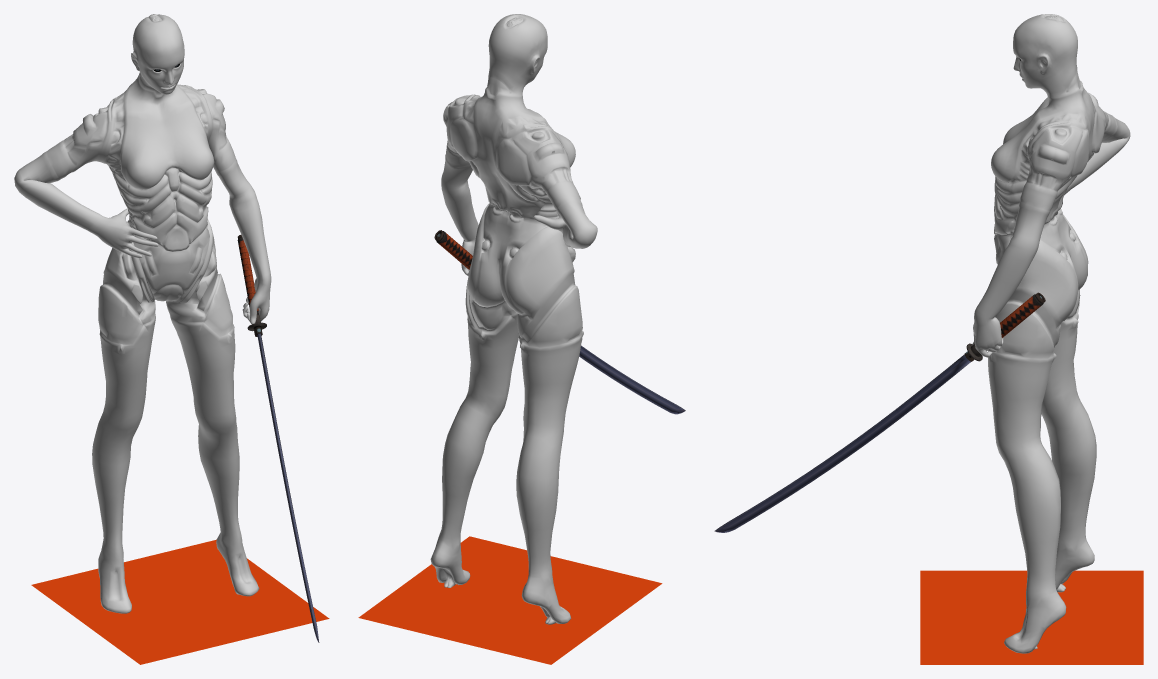
3 views of the same model, side by side, from view 1: azimuth 30°, elevation 25°; view 2: azimuth 150°, elevation 25°; view 3: azimuth 270°, elevation 25° (orthographic). The views are drawn at different scales.
Visible parts, largest first — view 1: model pose 1_0, Plane_2, model pose 1.002_1; view 2: model pose 1_0, Plane_2, model pose 1.002_1; view 3: model pose 1_0, Plane_2, model pose 1.002_1.
Boxes of the visible parts, x1,y1,x2,y2 form: model pose 1_0: (14, 14, 271, 613); Plane_2: (31, 539, 329, 664); model pose 1.002_1: (237, 235, 319, 642); model pose 1_0: (430, 14, 597, 624); Plane_2: (358, 536, 662, 664); model pose 1.002_1: (434, 230, 685, 414); model pose 1_0: (972, 14, 1130, 653); Plane_2: (920, 570, 1143, 664); model pose 1.002_1: (714, 292, 1045, 532).
Bounding box in the file's own units: 1.15 × 2.94 × 1.92.
